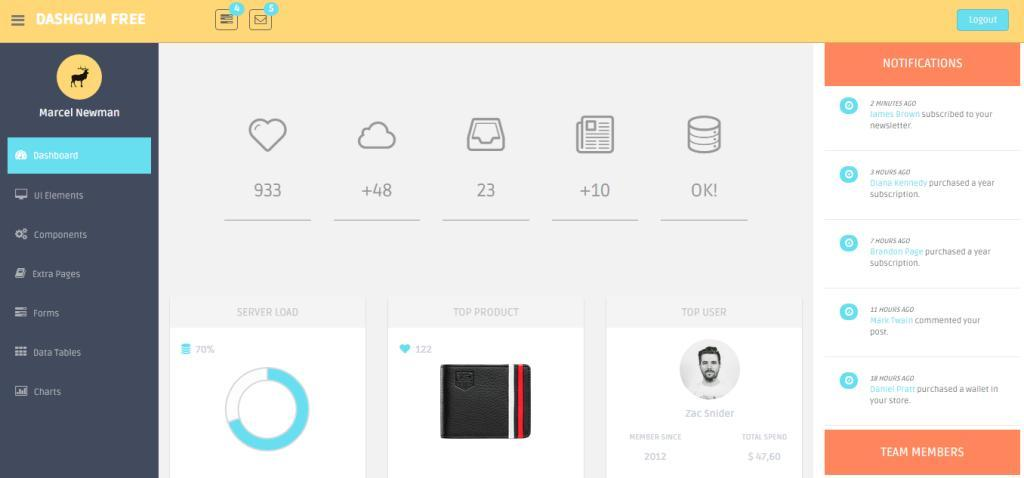button: (958, 10, 1010, 33)
icon: (575, 113, 620, 157), (687, 115, 727, 158), (250, 116, 290, 154), (468, 118, 508, 154), (358, 120, 400, 153), (10, 14, 28, 29), (15, 189, 29, 203), (16, 228, 30, 242), (14, 307, 29, 320), (255, 14, 270, 27), (219, 14, 235, 26), (16, 385, 30, 398), (15, 267, 28, 281), (15, 346, 30, 358), (15, 150, 28, 163)
label: (32, 268, 82, 282), (34, 230, 90, 242), (35, 347, 84, 359), (36, 193, 86, 203), (33, 387, 65, 398), (33, 310, 63, 319)
